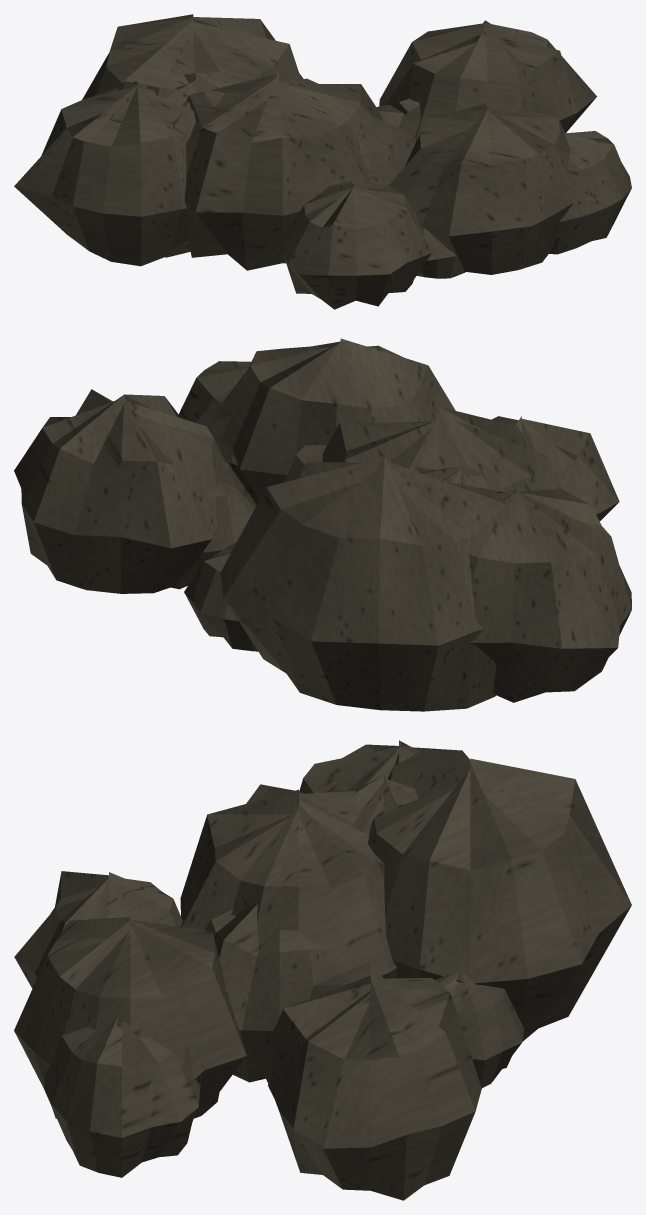
File: PROP-A033083676EE_lod0.glb
3 renders of one model, top to bottom at view 1: azimuth 30°, elevation 25°; view 2: azimuth 150°, elevation 25°; view 3: azimuth 270°, elevation 25°, orthographic. The views are drawn at different scales.
Visible parts, largest first — view 1: rock.002; view 2: rock.002; view 3: rock.002.
Boxes of the visible parts, x1,y1,x2,y2 form: rock.002: (14, 14, 631, 309); rock.002: (14, 338, 631, 711); rock.002: (14, 740, 631, 1200).
Bounding box in the file's own units: 1.53 × 0.4905 × 1.16.
Materials: 1 (1 with a texture image).
